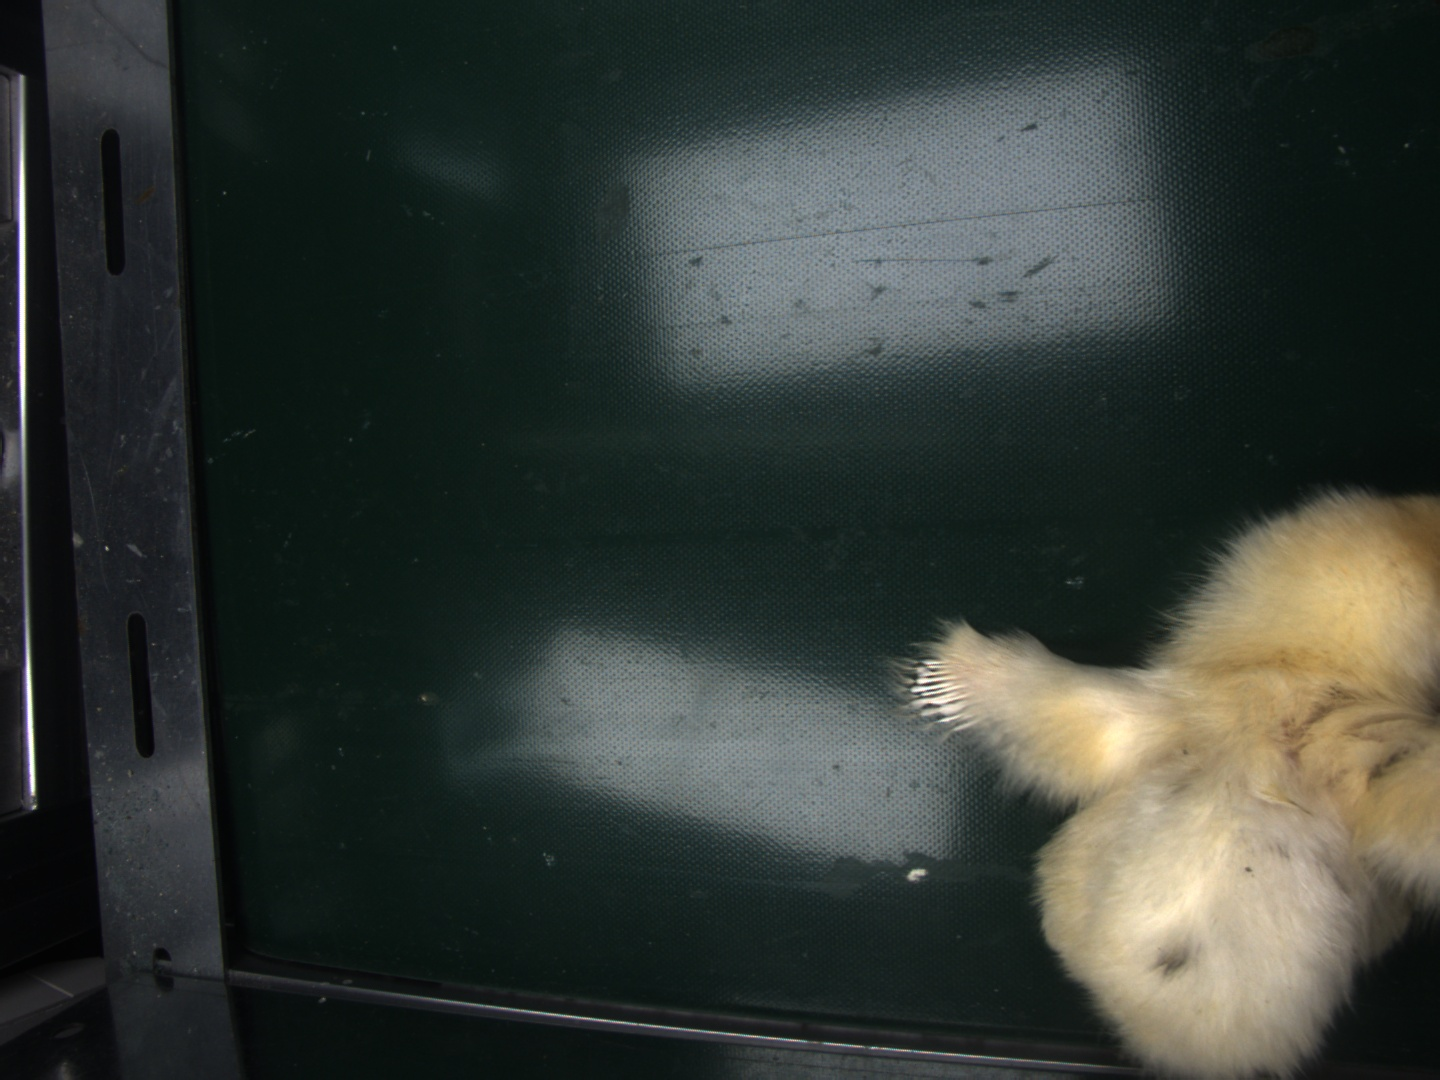male: (910, 651, 980, 733)
